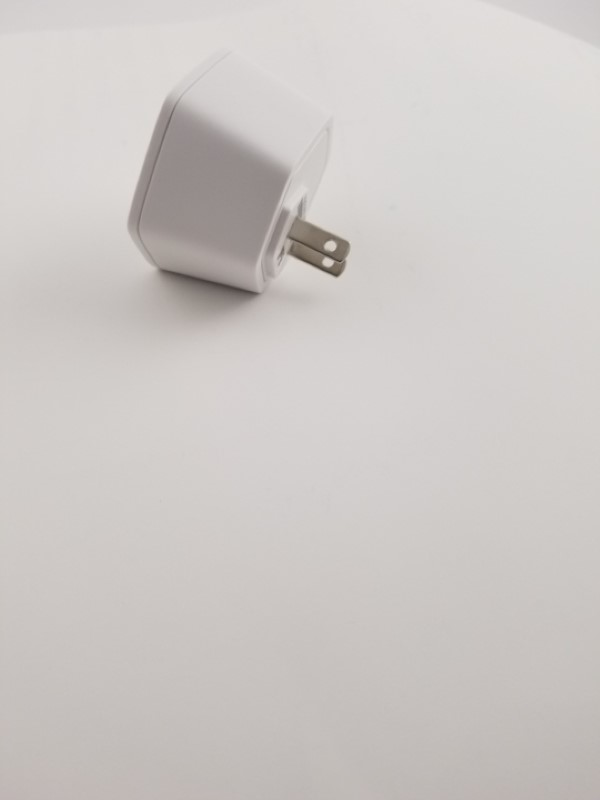pod: (123, 43, 364, 307)
